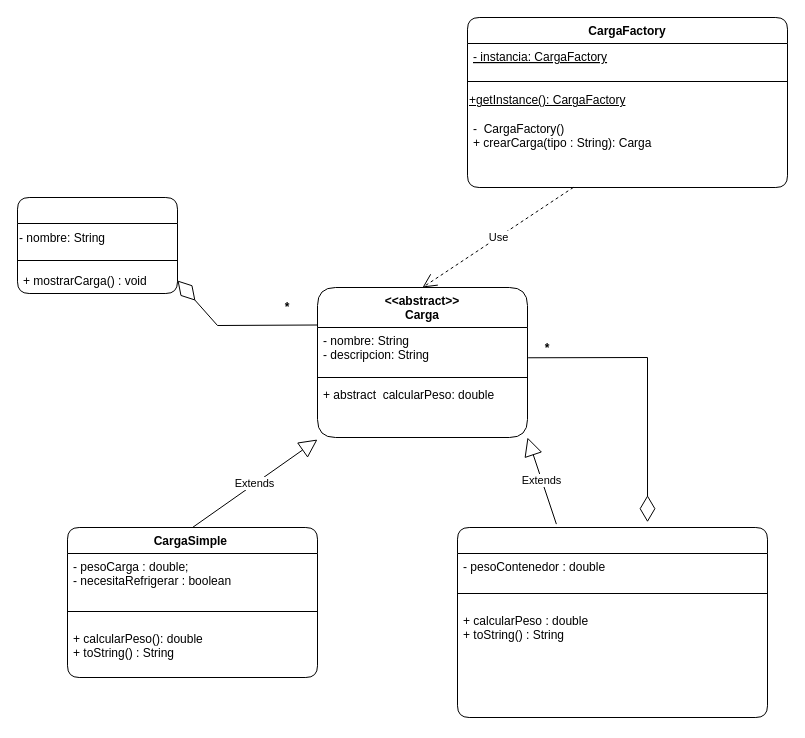
The diagram is 805 pixels wide and 738 high, and some of its shapes have lost their labels. The shapes that lost their labels are listed below. From the top down, each one's box as (x1, y1, x2, y2) in pixels, then its label:
(16, 196, 178, 294): Barco
(456, 526, 768, 718): CargaContenedor
